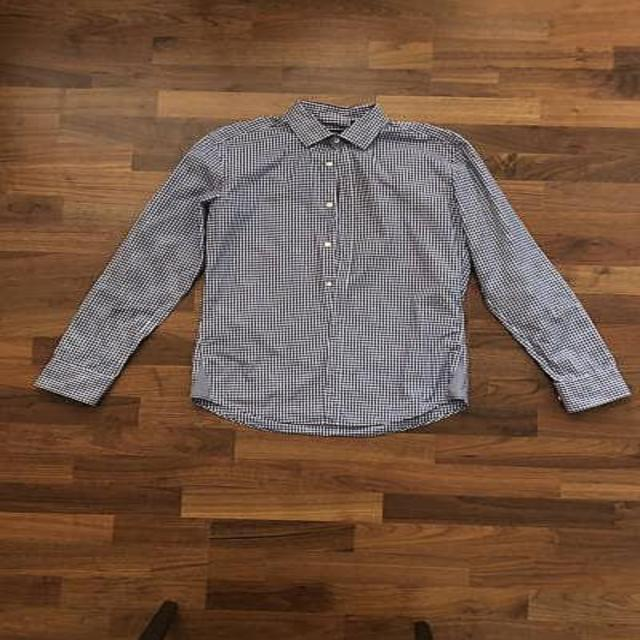SHIRT: (21, 90, 638, 442)
